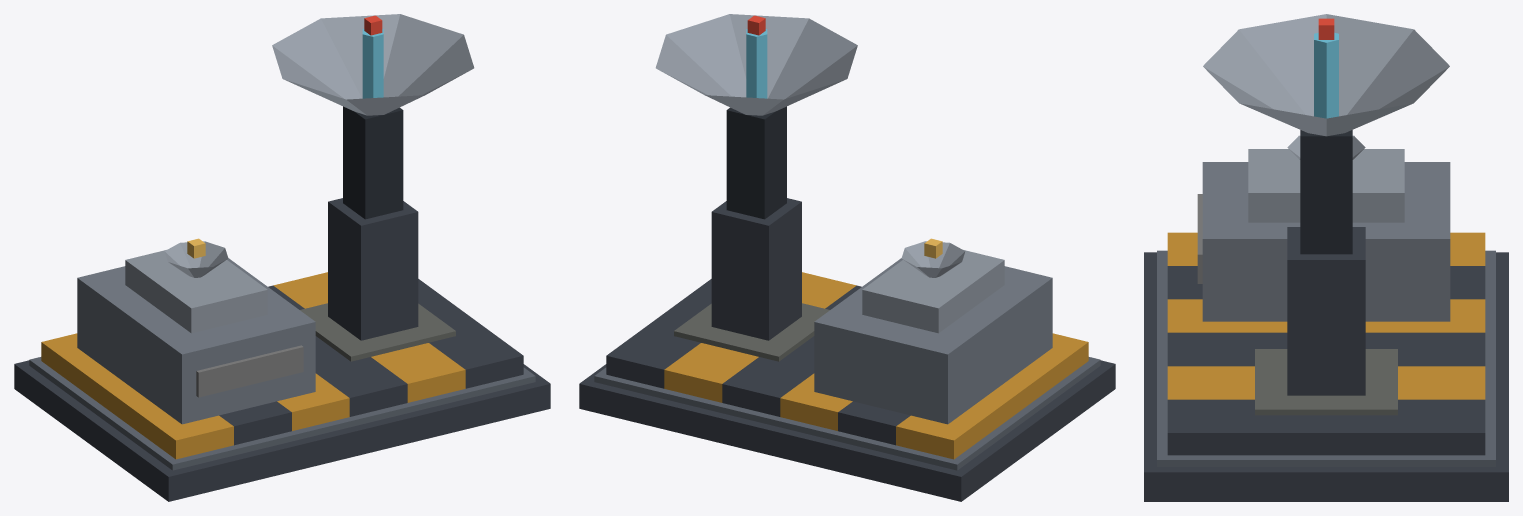
File: radar-array.obj
3 renders of one model, left to right at view 1: azimuth 30°, elevation 25°; view 2: azimuth 150°, elevation 25°; view 3: azimuth 270°, elevation 25°, orthographic. The views are drawn at different scales.
Visible parts, largest first — view 1: radar-array; view 2: radar-array; view 3: radar-array.
Boxes of the visible parts, left/top/right/bottom form: radar-array: left=14, top=14, right=550, bottom=501; radar-array: left=579, top=14, right=1115, bottom=501; radar-array: left=1144, top=14, right=1508, bottom=501.
Bounding box in the file's own units: 8 × 7.15 × 5.6.
